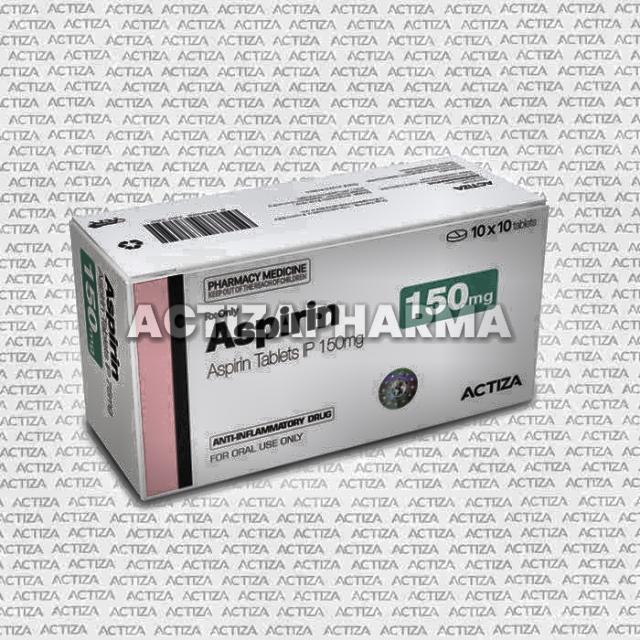Aspirin: (133, 208, 547, 502)
